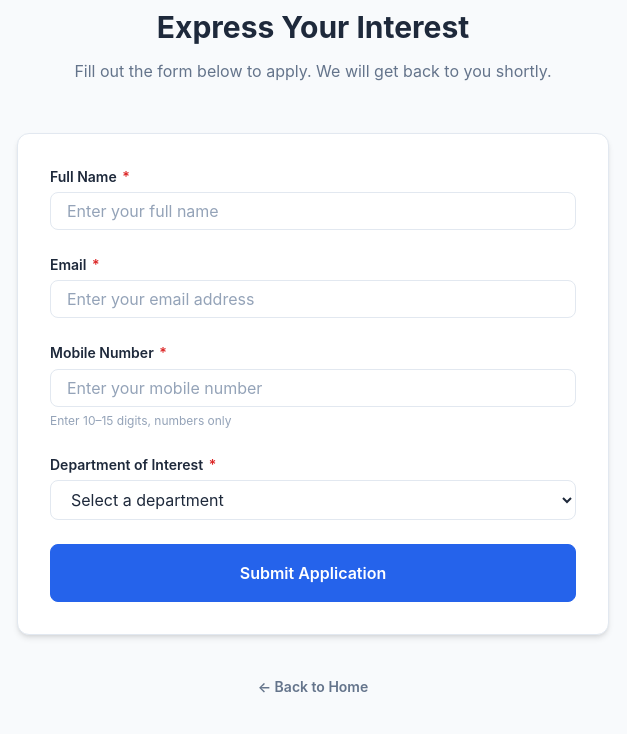
Test: InterestForm › validation errors › shows validation error for invalid email format
The image size is (627, 734).
Type "Jane Doe" into the field labelled "Full Name *".
click(313, 211); type("Jane Doe")  # box [50,192,576,230]
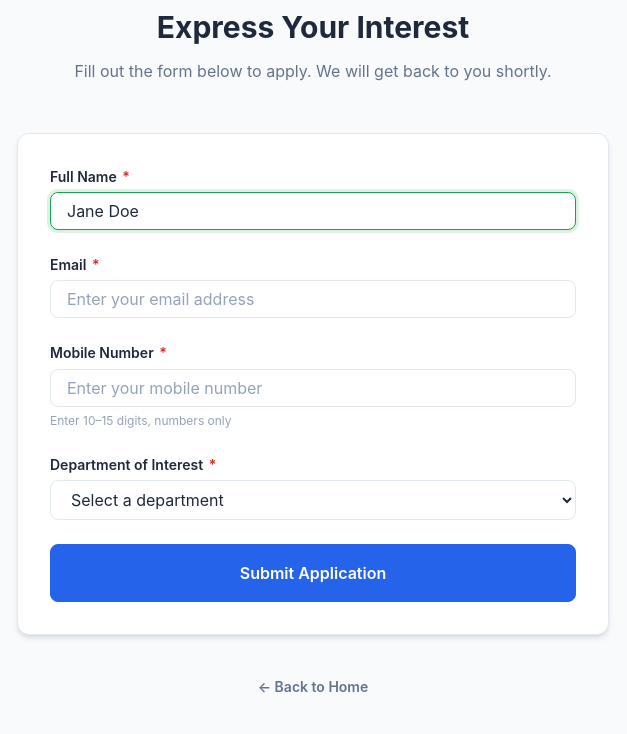
Type "not-an-email" into the field labelled "Email *".
click(313, 299); type("not-an-email")  # box [50,280,576,318]
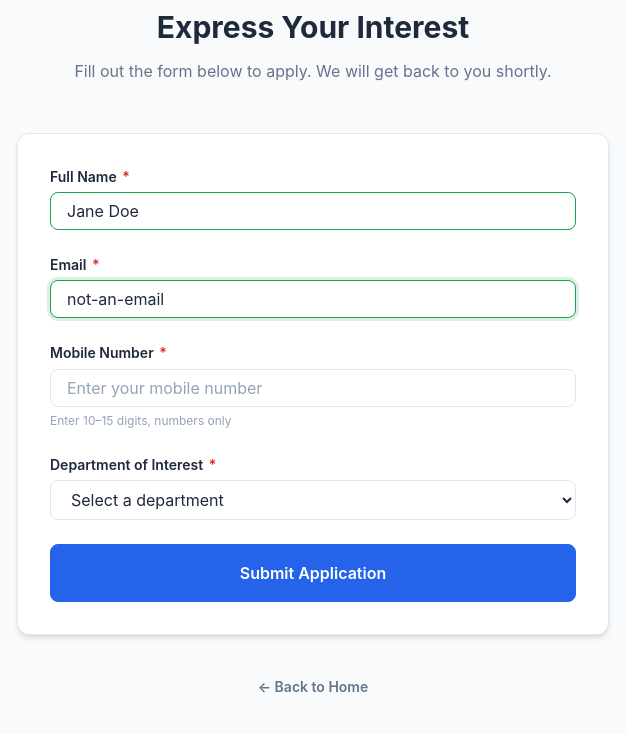
Type "1234567890" into the field labelled "Mobile Number *".
click(313, 388); type("1234567890")  # box [50,369,576,407]
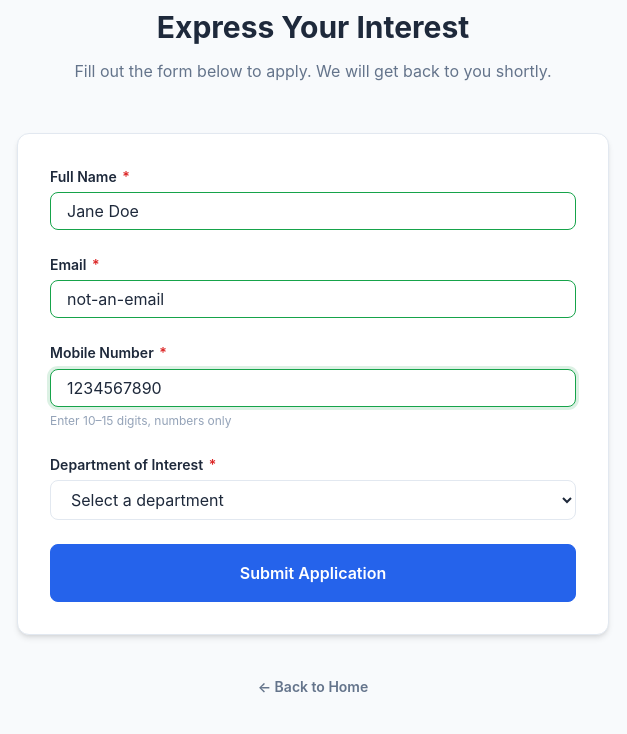
Select "Engineering" in the dropdown labelled "Department of Interest *" at (313, 500), box [50,480,576,520]
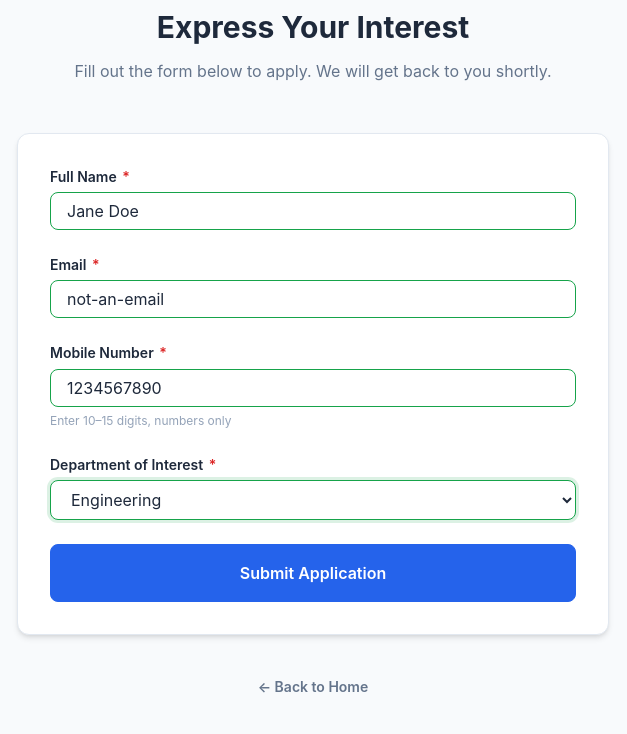
Click the button "Submit Application".
click(313, 573)  # box [50,544,576,602]
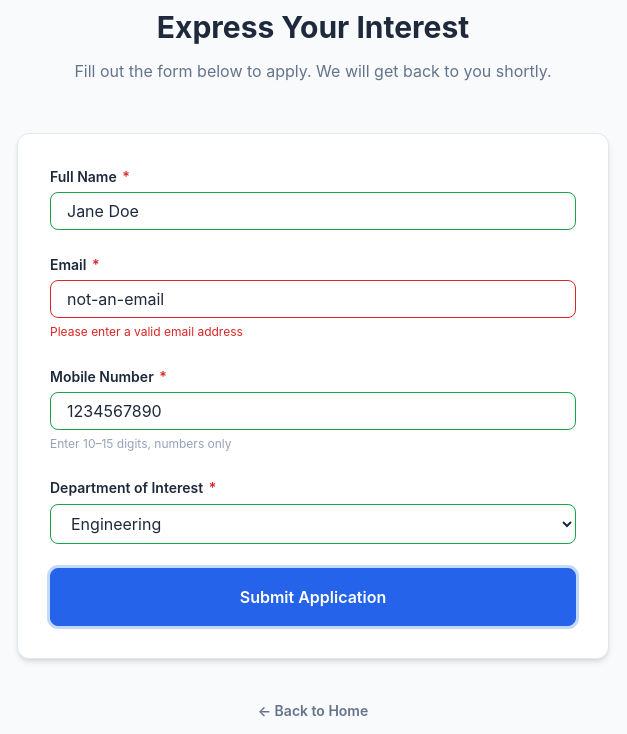
Result: the text "Please enter a valid email address" is shown at [50,324,243,339]
